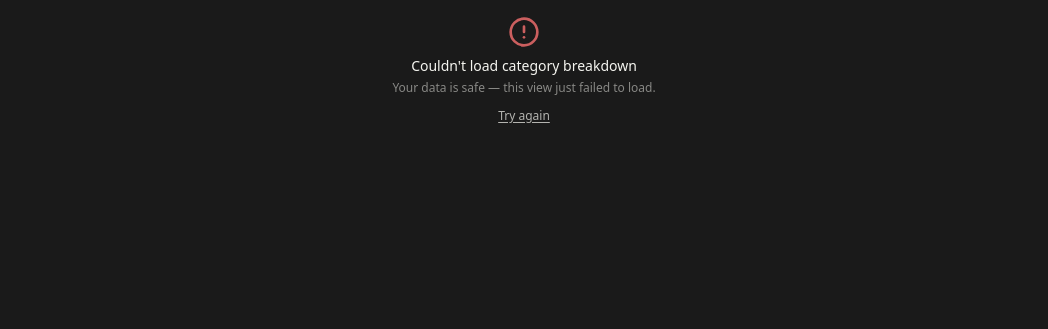
Test: CategoryBreakdown - a failed load is never drawn as zero › draws the breakdown once the retry succeeds
Check: the message is shown, box [392, 16, 656, 124]
Click the button "Try again".
click(524, 116)  # box [498, 108, 550, 124]
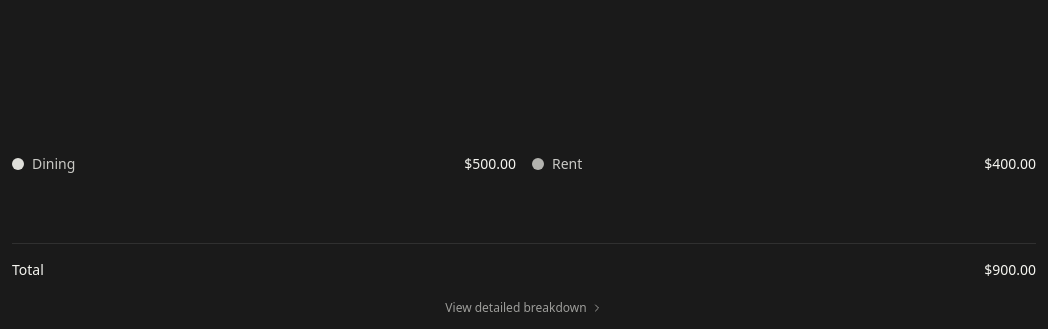
Check: the text "Total" is shown, box [12, 260, 44, 280]
